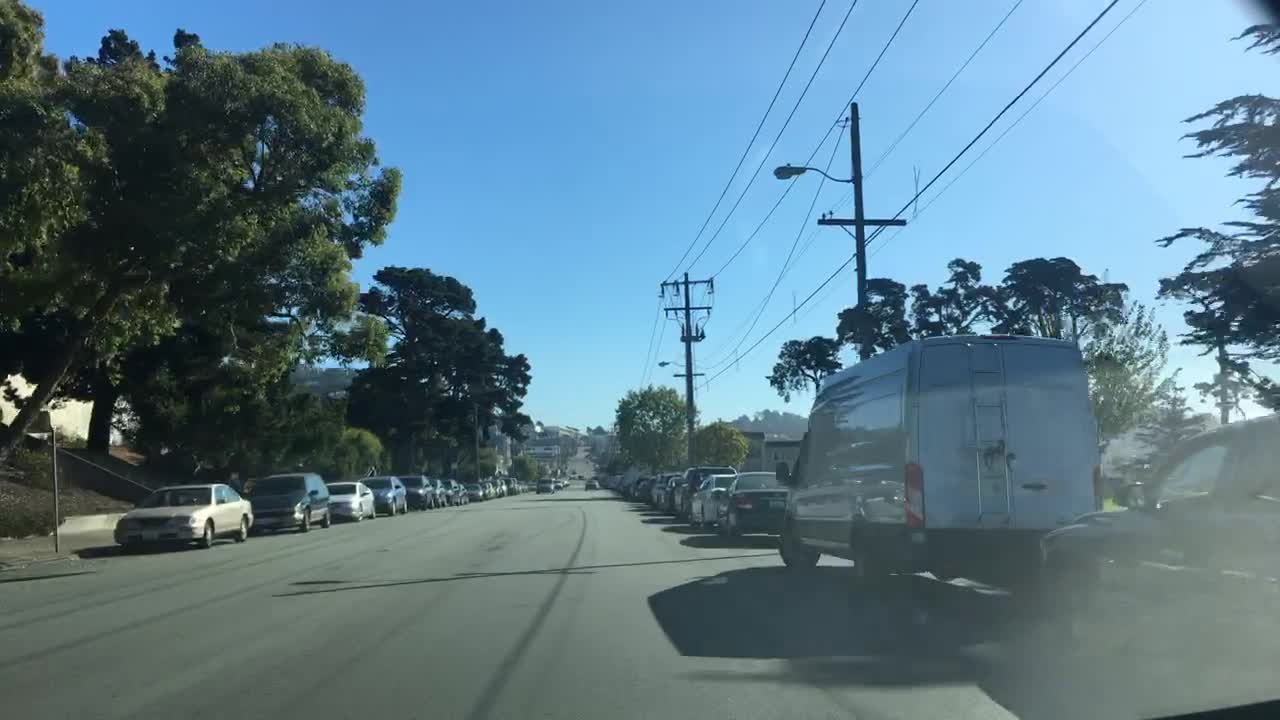car: (1036, 411, 1277, 701), (111, 480, 254, 554), (718, 468, 794, 543), (249, 470, 332, 533), (673, 468, 736, 524), (689, 475, 731, 531), (332, 478, 378, 522), (375, 472, 409, 517), (406, 472, 434, 512), (660, 480, 684, 517), (647, 479, 668, 509), (447, 479, 468, 508), (630, 478, 652, 505), (605, 471, 627, 492), (619, 480, 636, 504), (430, 480, 447, 503), (534, 475, 552, 495), (468, 480, 483, 503), (493, 480, 508, 500), (510, 478, 523, 496), (585, 478, 600, 491), (484, 480, 493, 501), (554, 478, 564, 491)
truck: (776, 333, 1099, 588)
